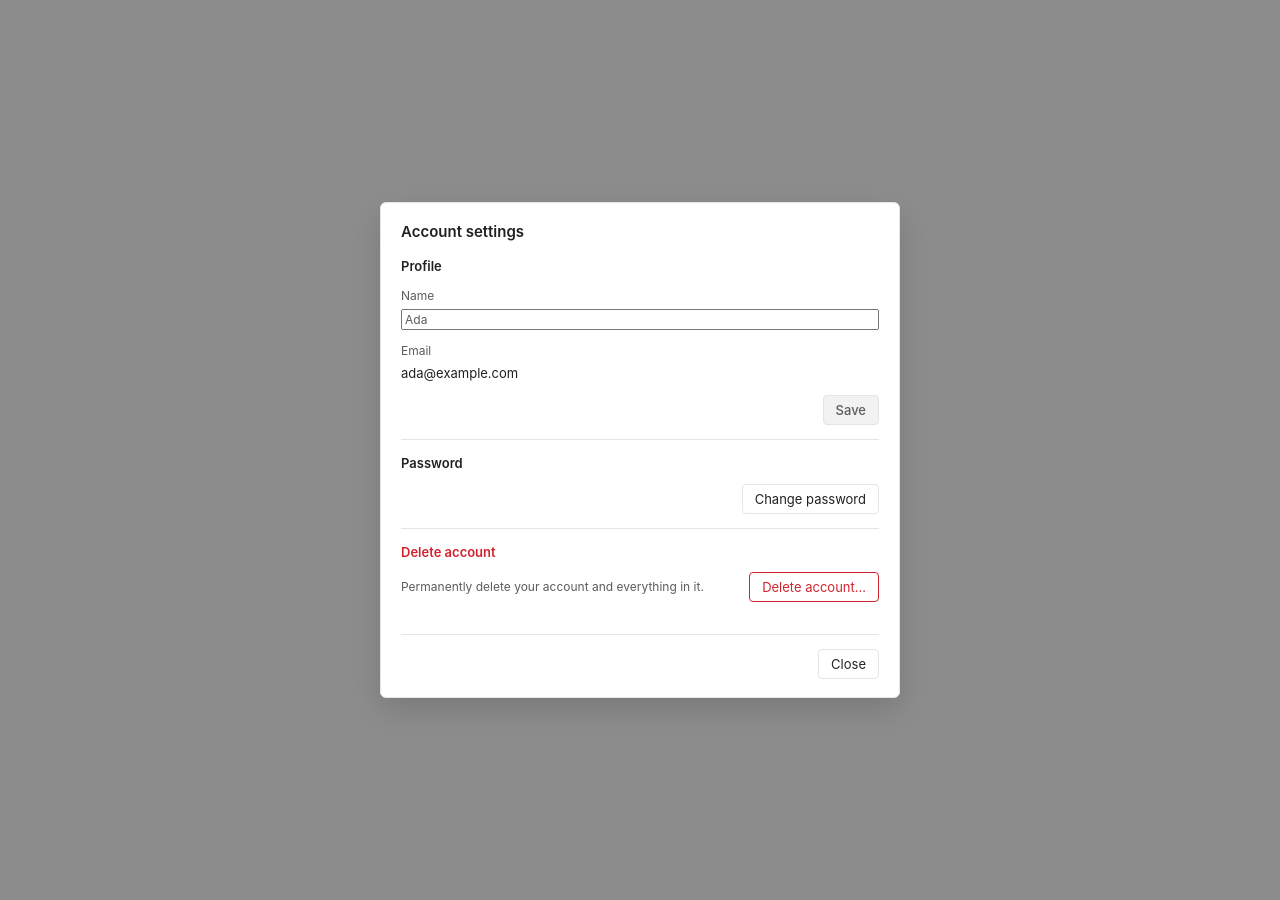
Test: AccountSettingsModal › the password is a button until it is needed
expect the field labelled "Current password" is not shown: met
Click the button "Change password".
click(810, 499)  # box [742,484,879,514]
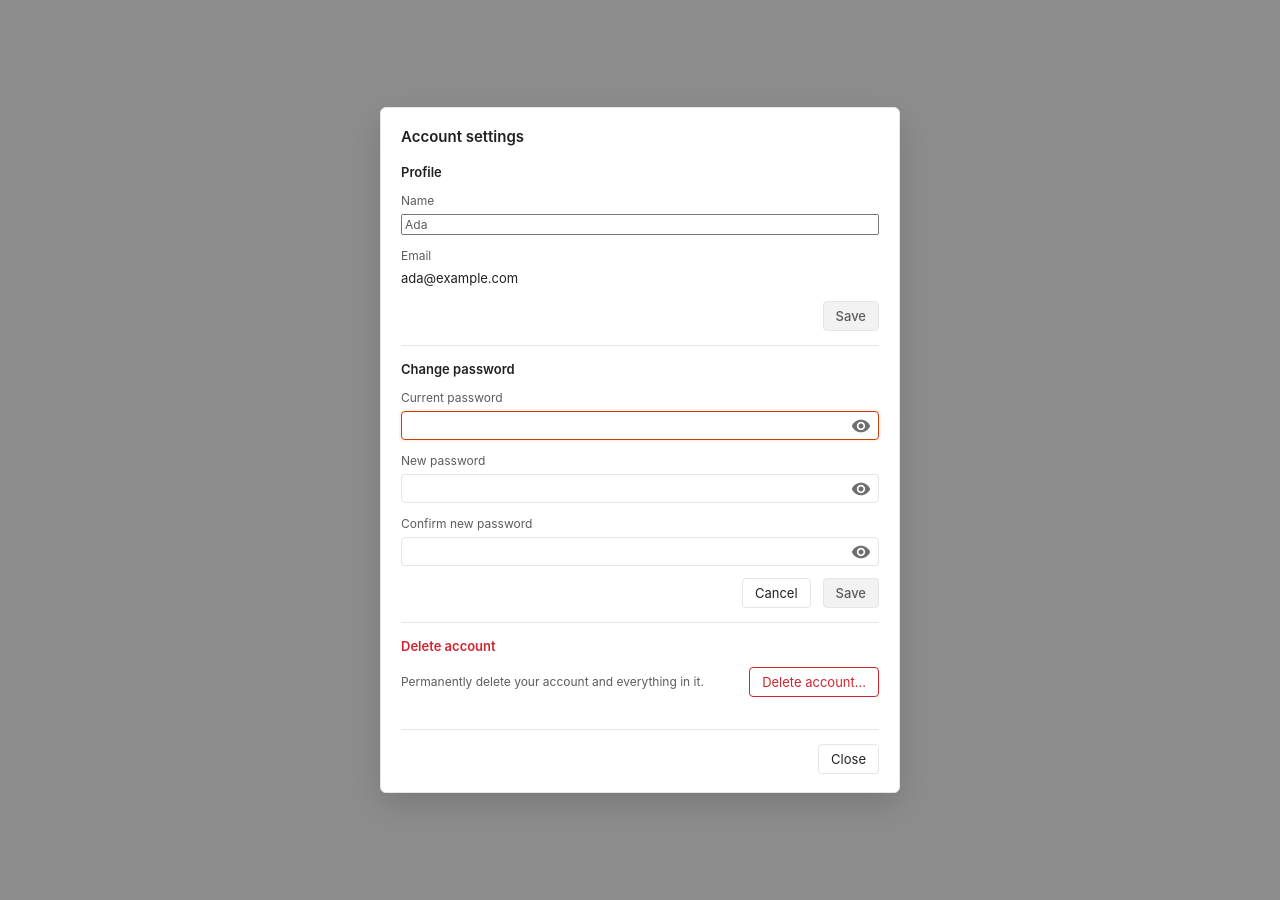
expect the password field labelled "Current password" is shown: met, box [401,411,879,440]
expect the password field labelled "New password" is shown: met, box [401,474,879,503]
expect the password field labelled "Confirm new password" is shown: met, box [401,537,879,566]
Click the button "Cancel".
click(776, 593)  # box [742,578,810,608]
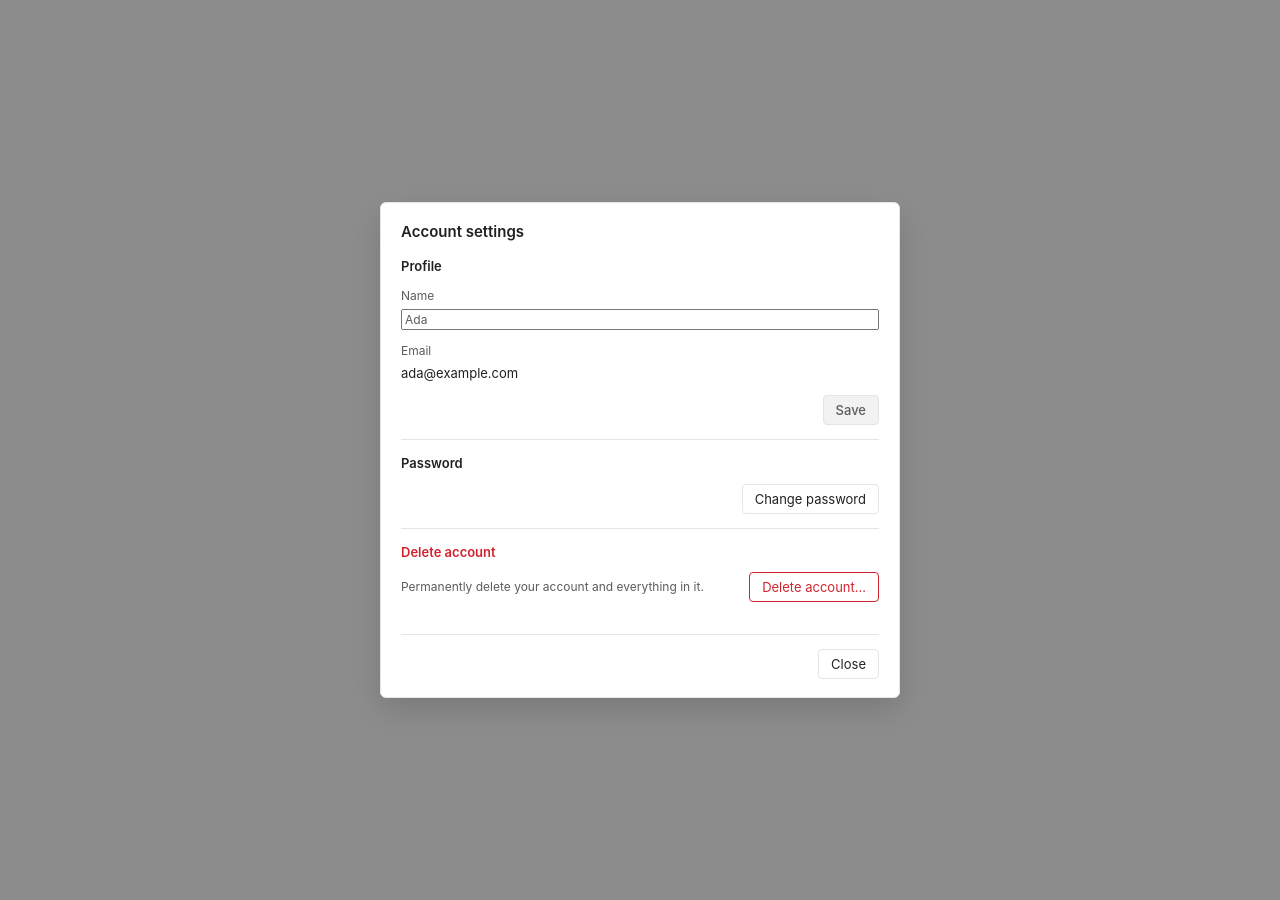
expect the label labelled "Current password" is gone: met
